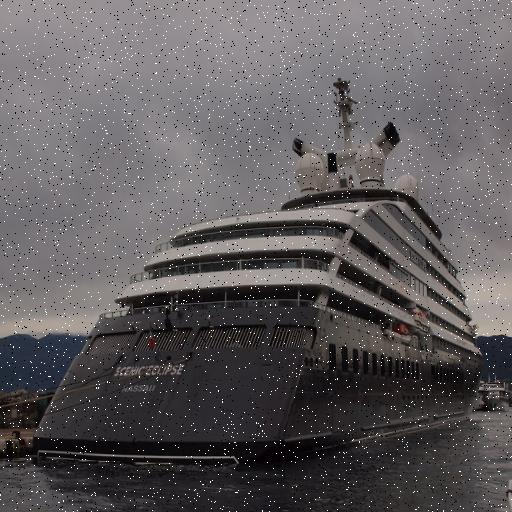cruises: (29, 75, 489, 476)
